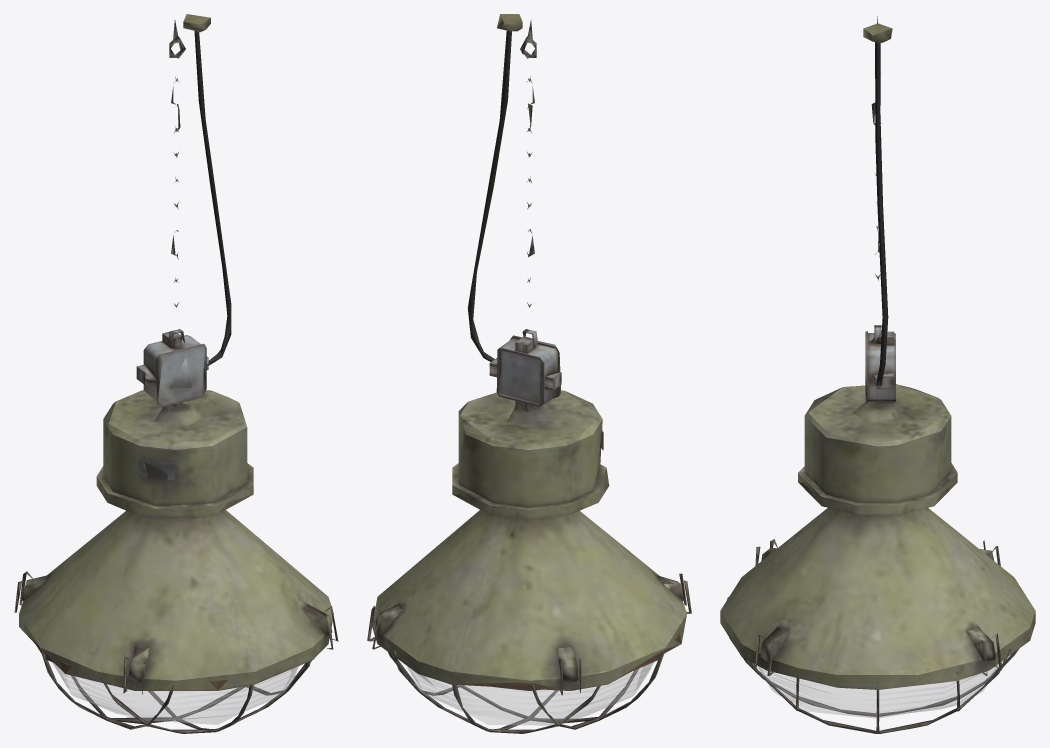
Rendered from hanging_industrial_lamp.slim.glb.
3 views of the same model, side by side, from view 1: azimuth 30°, elevation 25°; view 2: azimuth 150°, elevation 25°; view 3: azimuth 270°, elevation 25° (orthographic).
Size of the model in its own units: 0.5496 by 1.35 by 0.5496.
2 materials, 1 textured.
